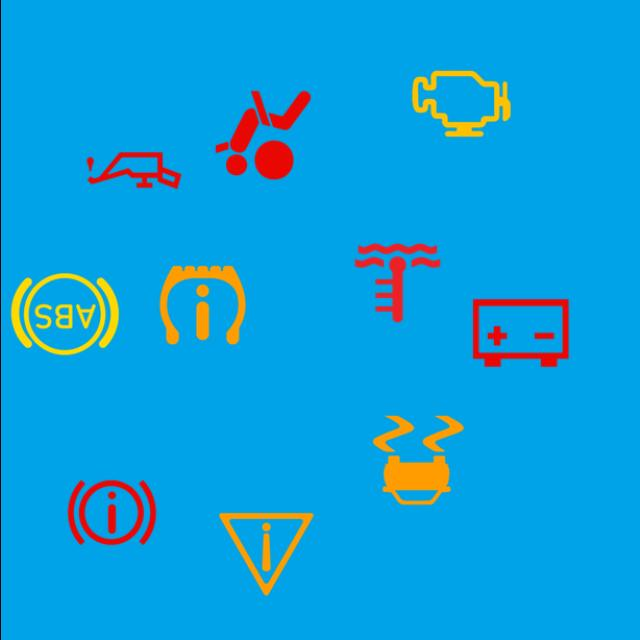Anti Lock Braking System: (5, 255, 123, 374)
Braking System Issue: (52, 454, 170, 572)
Charging System Issue: (461, 274, 578, 392)
Check Engine: (401, 44, 519, 162)
Electronic Stability Problem -ESP-: (358, 401, 476, 519)
Engine Overheating Warning Light: (338, 224, 456, 342)
Low Engine Oil Warning Light: (74, 112, 192, 230)
Low Tire Pressure Warning Light: (142, 246, 260, 364)
Master warning light: (206, 495, 324, 613)
SRS-Airbag: (203, 76, 321, 194)
